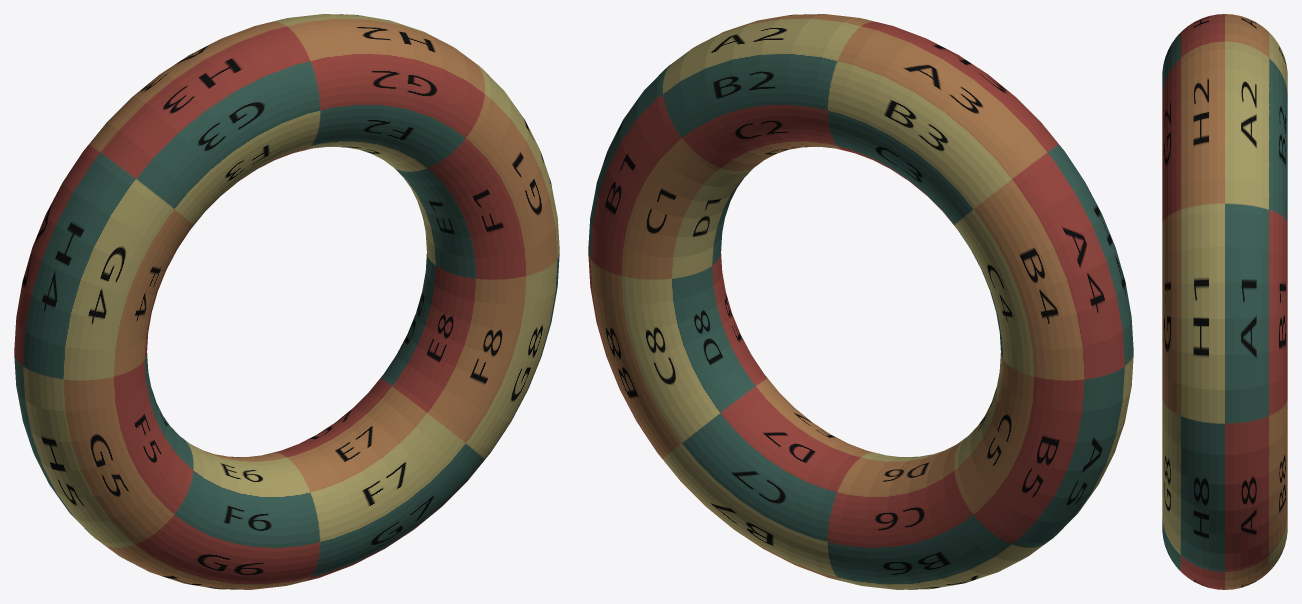
Rendered from texture_torus_R23_r19.glb.
The picture shows the model from 3 angles, left to right: view 1: azimuth 30°, elevation 25°; view 2: azimuth 150°, elevation 25°; view 3: azimuth 270°, elevation 25°; orthographic projection. The views are drawn at different scales.
Visible parts, largest first — view 1: world; view 2: world; view 3: world.
Part boxes in pixels (x1,y1,x2,y2): world: (14, 14, 559, 589); world: (588, 14, 1133, 589); world: (1162, 14, 1287, 589).
Bounding box in the file's own units: 32.4 × 32.34 × 7.05.
1 material, 1 textured.
